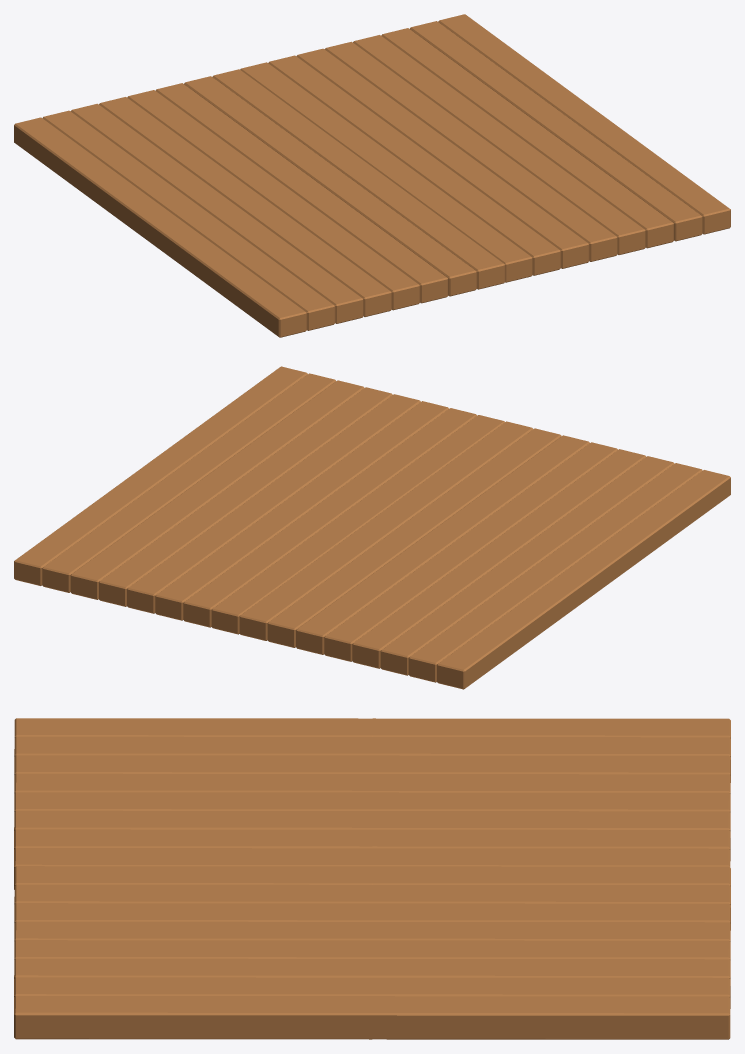
Rendered from Floor.fbx.
The picture shows the model from 3 angles, top to bottom: view 1: azimuth 30°, elevation 25°; view 2: azimuth 150°, elevation 25°; view 3: azimuth 270°, elevation 25°; orthographic projection. The views are drawn at different scales.
Visible parts, largest first — view 1: Floor_2; view 2: Floor_2; view 3: Floor_2.
Boxes of the visible parts, x1,y1,x2,y2 form: Floor_2: [14, 14, 730, 337]; Floor_2: [14, 366, 730, 689]; Floor_2: [14, 718, 730, 1039].
Bounding box in the file's own units: 92.11 × 3.84 × 94.06.
